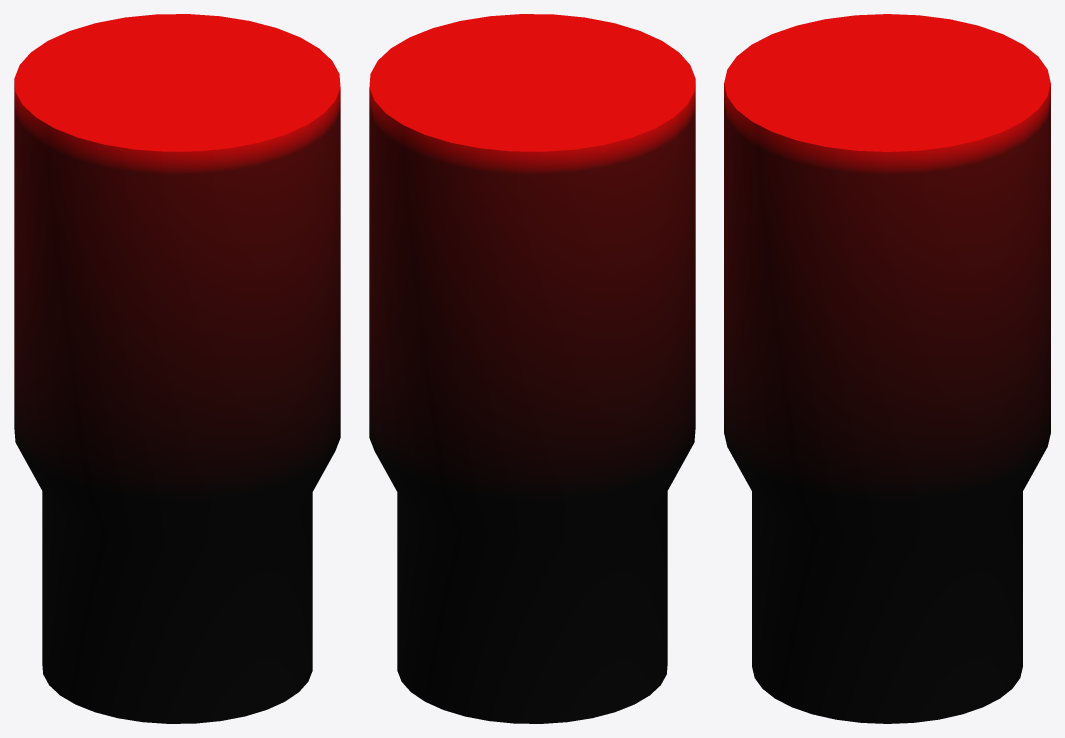
File: WaterBottleWater.fbx
3 views of the same model, side by side, from view 1: azimuth 30°, elevation 25°; view 2: azimuth 150°, elevation 25°; view 3: azimuth 270°, elevation 25° (orthographic).
Parts seen in each view (by area): view 1: WaterBottle.001; view 2: WaterBottle.001; view 3: WaterBottle.001.
Boxes of the visible parts, x1,y1,x2,y2 form: WaterBottle.001: (14,14,340,723); WaterBottle.001: (369,14,695,723); WaterBottle.001: (724,14,1050,723).
Bounding box in the file's own units: 0.5218 × 1.03 × 0.5218.
